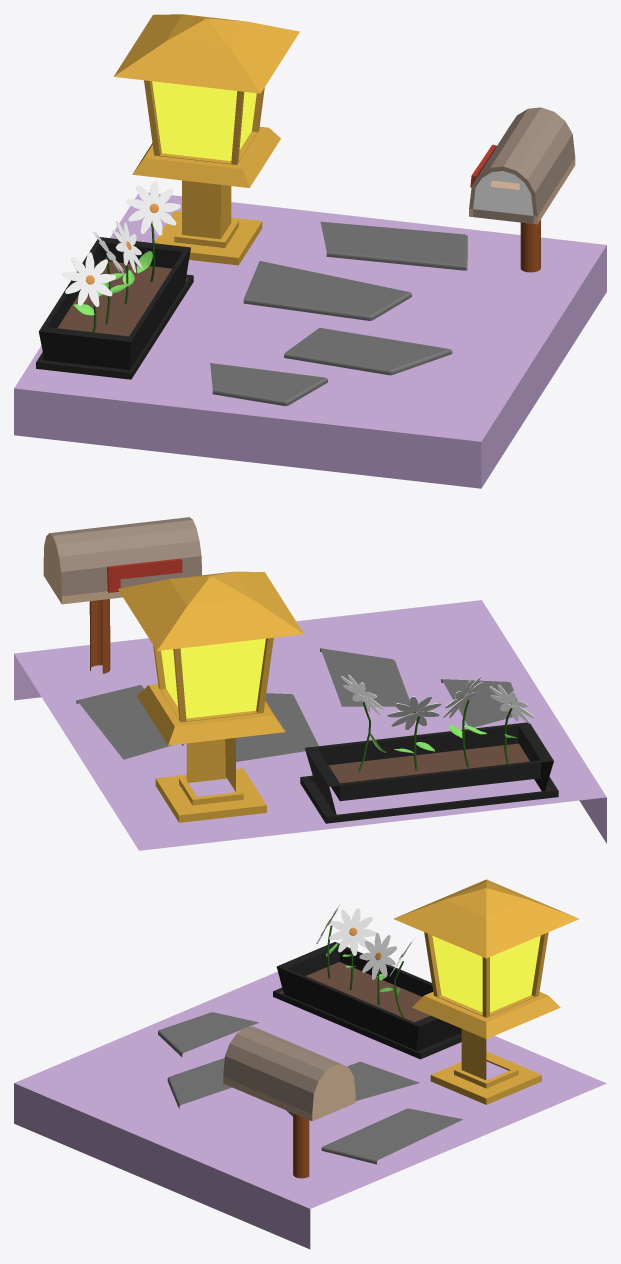
File: Contact.gltf
3 views of the same model, one above another, from view 1: azimuth 30°, elevation 25°; view 2: azimuth 150°, elevation 25°; view 3: azimuth 270°, elevation 25° (orthographic). The views are drawn at different scales.
Visible parts, largest first — view 1: Contact Area Floor, Cube.036, Plane.016, Plane.006, Cylinder.024, Cube.037, door, Plane.010, Plane.013, Plane.004; view 2: Contact Area Floor, Cube.036, Plane.006, Plane.016, Cylinder.024, Cube.037, Flag, Plane.004, Plane.013, Plane.010, Plane.007; view 3: Contact Area Floor, Cube.036, Plane.006, Cylinder.024, Plane.016, Cube.037, Plane.007, Plane.004.
Part boxes in pixels (x1=…): Contact Area Floor: x1=14, y1=192, x2=606, y2=488; Cube.036: x1=113, y1=14, x2=299, y2=265; Plane.016: x1=210, y1=221, x2=467, y2=406; Plane.006: x1=36, y1=237, x2=193, y2=379; Cylinder.024: x1=469, y1=107, x2=575, y2=272; Cube.037: x1=152, y1=81, x2=256, y2=160; door: x1=473, y1=171, x2=533, y2=223; Plane.010: x1=126, y1=180, x2=180, y2=235; Plane.013: x1=62, y1=252, x2=115, y2=306; Plane.004: x1=112, y1=221, x2=141, y2=272; Contact Area Floor: x1=14, y1=600, x2=606, y2=850; Cube.036: x1=118, y1=571, x2=303, y2=822; Plane.006: x1=300, y1=722, x2=558, y2=823; Plane.016: x1=76, y1=648, x2=518, y2=761; Cylinder.024: x1=43, y1=517, x2=201, y2=673; Cube.037: x1=161, y1=638, x2=265, y2=718; Flag: x1=107, y1=558, x2=182, y2=592; Plane.004: x1=387, y1=696, x2=441, y2=729; Plane.013: x1=489, y1=684, x2=534, y2=723; Plane.010: x1=341, y1=674, x2=383, y2=714; Plane.007: x1=443, y1=676, x2=482, y2=718; Contact Area Floor: x1=14, y1=971, x2=606, y2=1249; Cube.036: x1=393, y1=879, x2=578, y2=1104; Plane.006: x1=273, y1=942, x2=461, y2=1059; Cylinder.024: x1=223, y1=1026, x2=355, y2=1178; Plane.016: x1=158, y1=1012, x2=462, y2=1164; Cube.037: x1=432, y1=935, x2=540, y2=1012; Plane.007: x1=329, y1=908, x2=376, y2=955; Plane.004: x1=359, y1=932, x2=396, y2=979.
Bounding box in the file's own units: 5.5 × 2.4 × 5.5.
